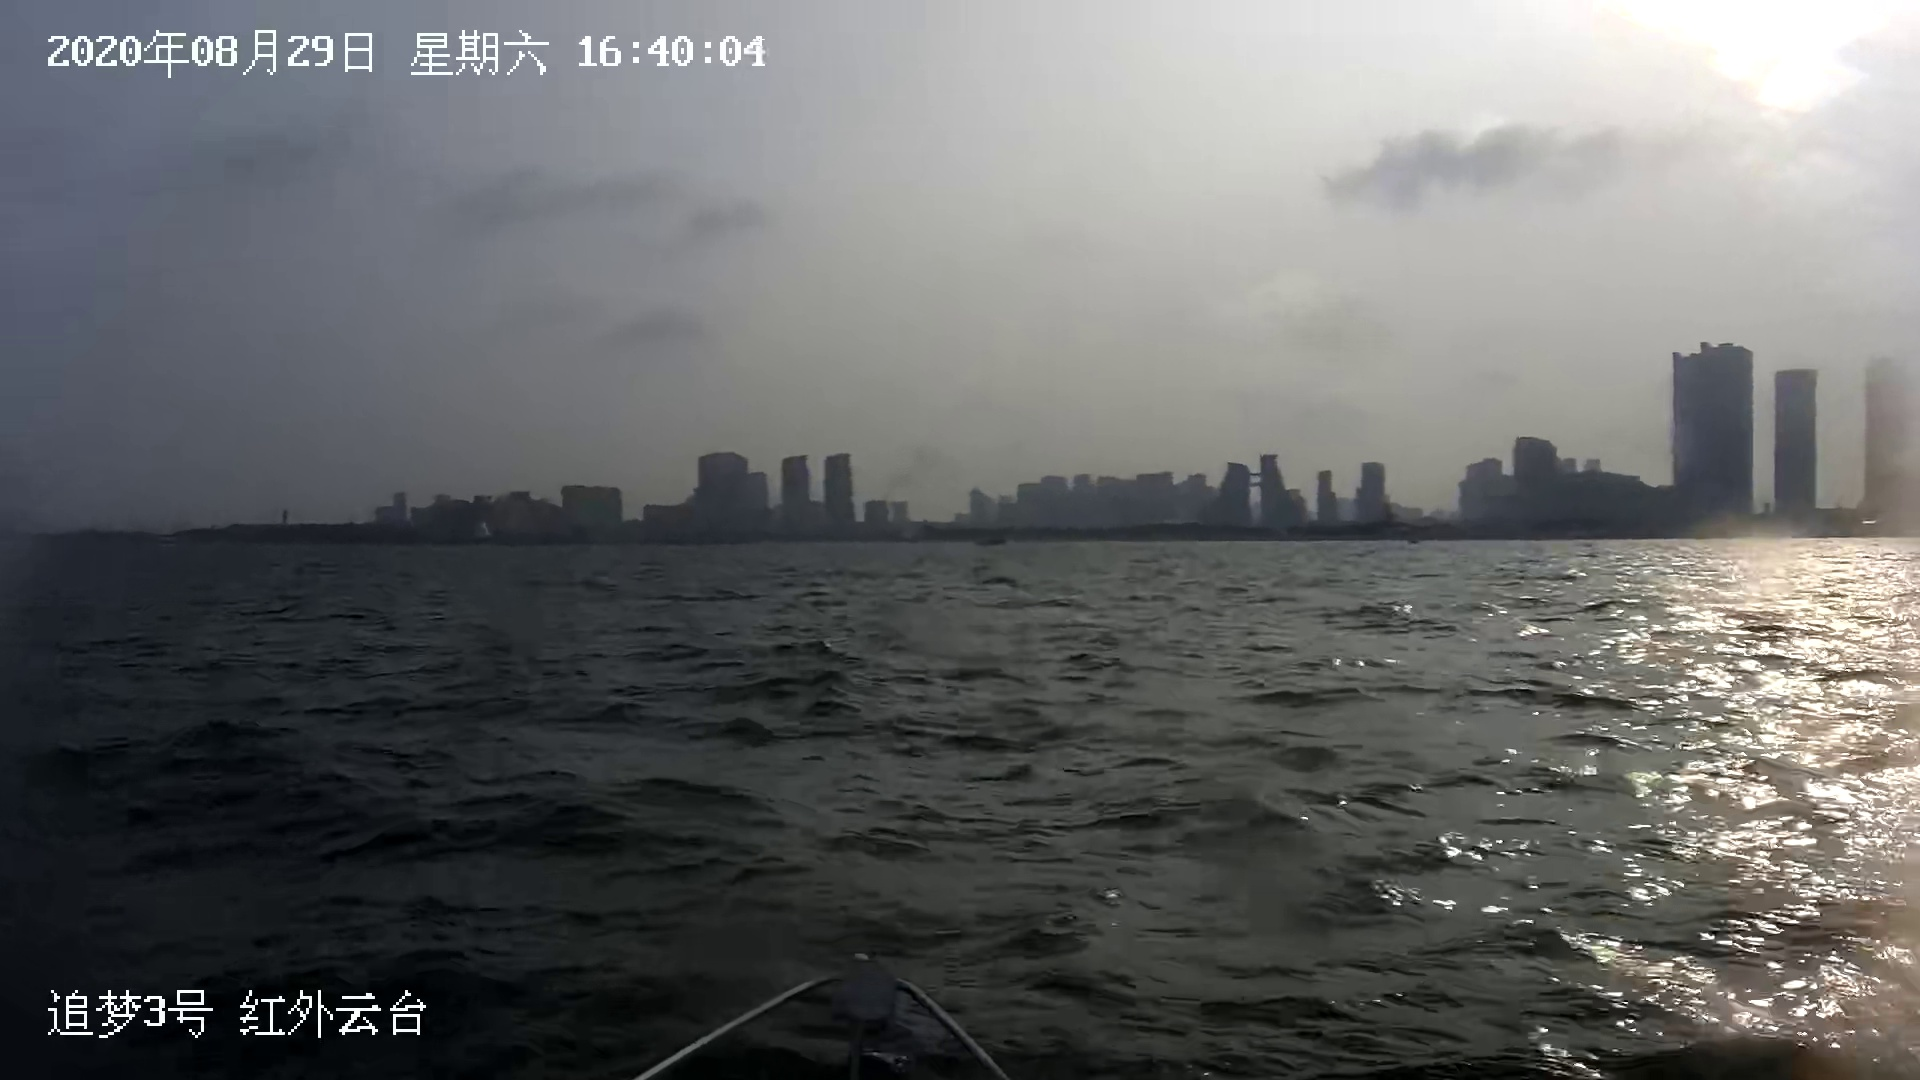coast: (94, 323, 1920, 553)
